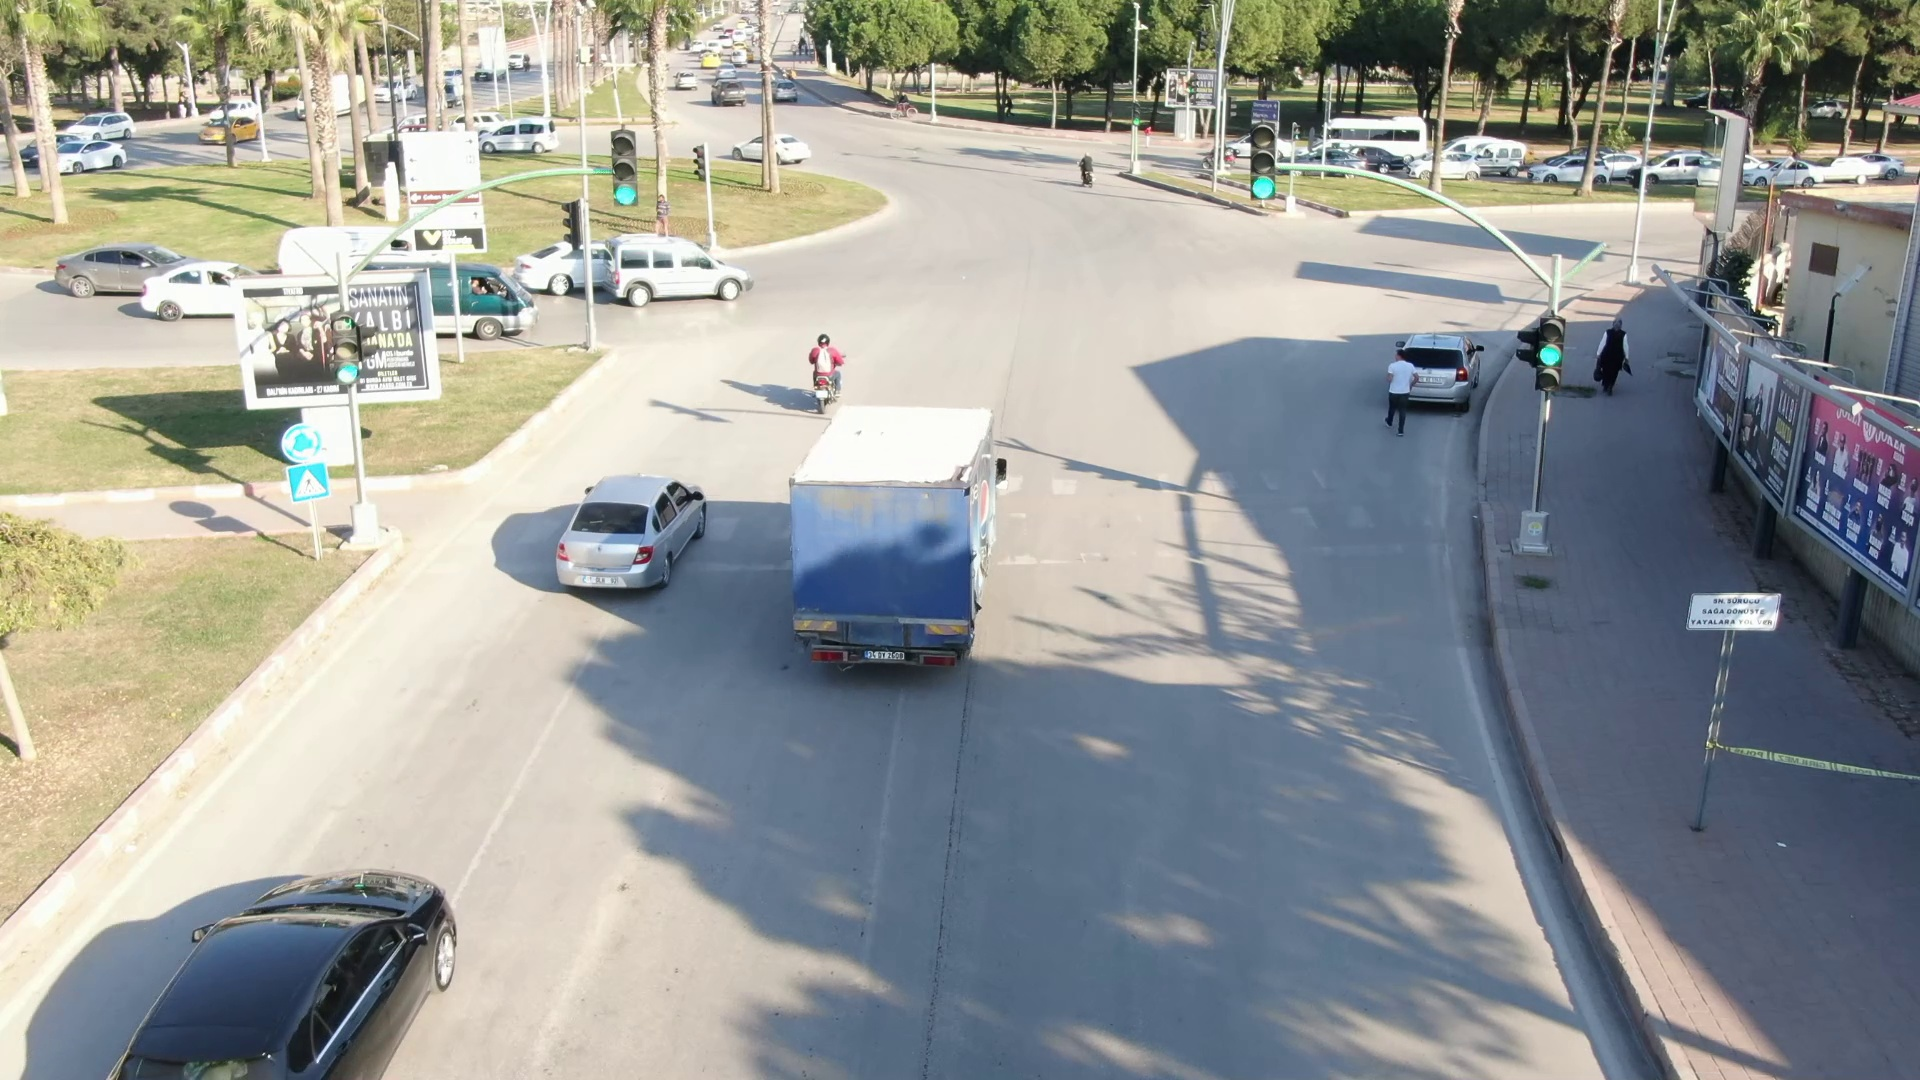car: (93, 841, 485, 1080), (540, 443, 736, 608), (597, 227, 759, 310), (47, 233, 216, 312), (724, 125, 824, 173), (478, 112, 570, 160), (41, 138, 142, 175), (194, 110, 263, 153)
person: (1586, 307, 1640, 398), (1378, 339, 1420, 440), (796, 316, 845, 384)
